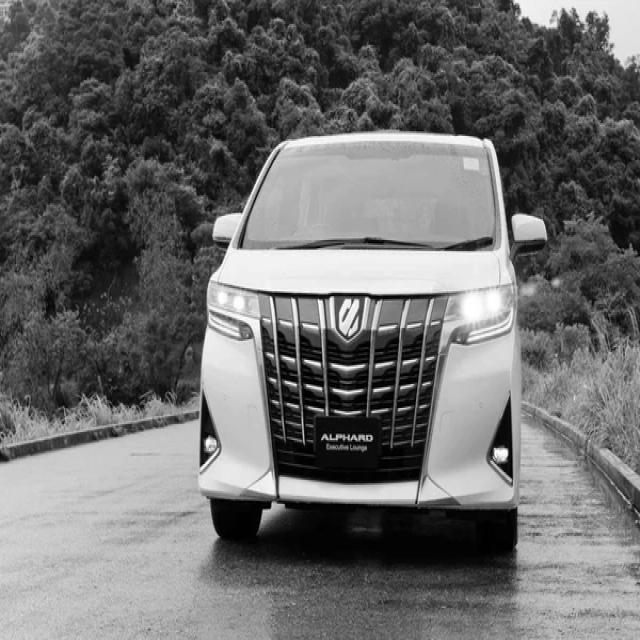Car: (200, 131, 550, 553)
